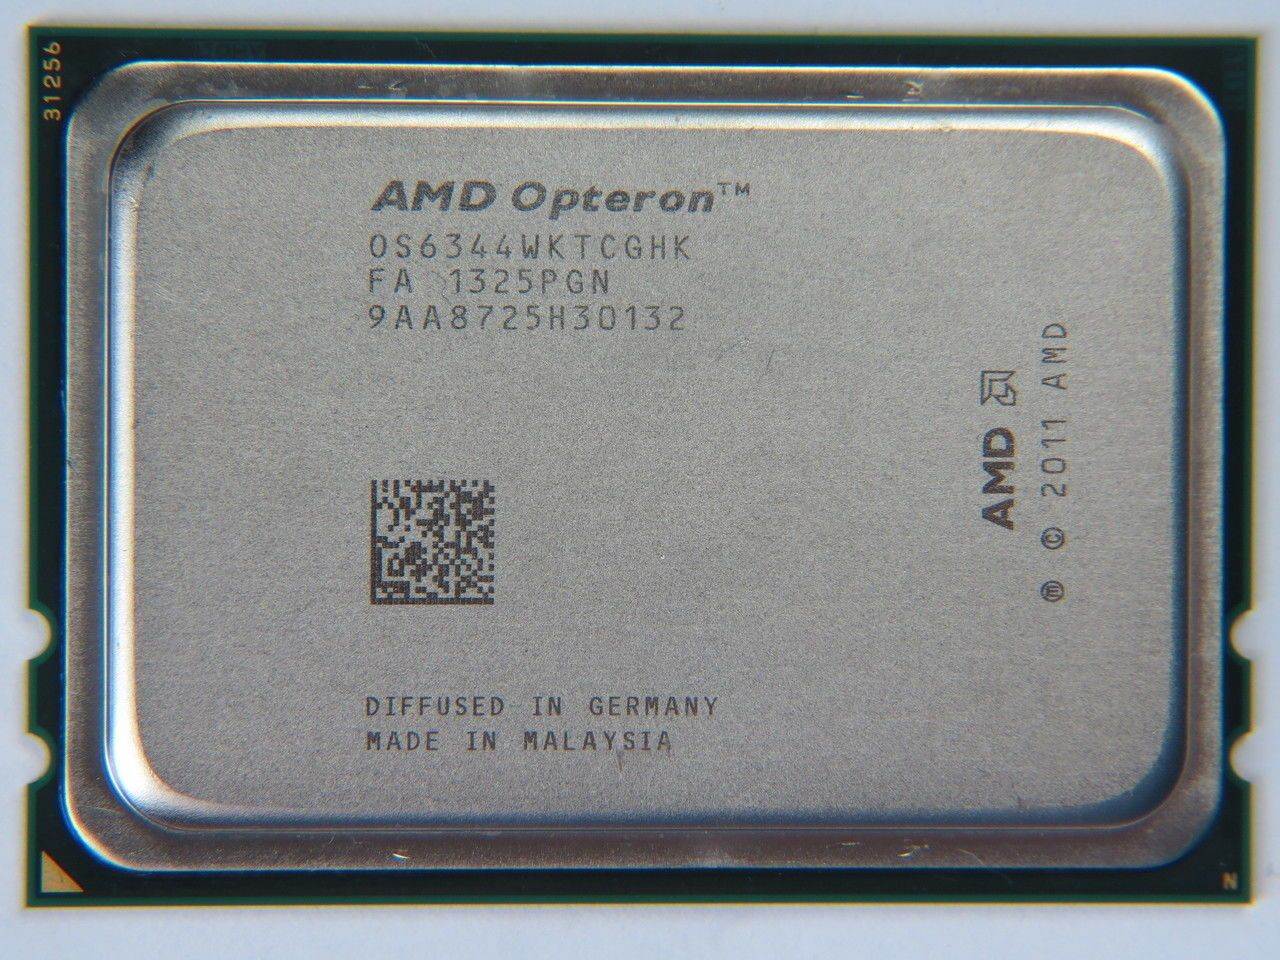Processor: (23, 20, 1270, 916)
